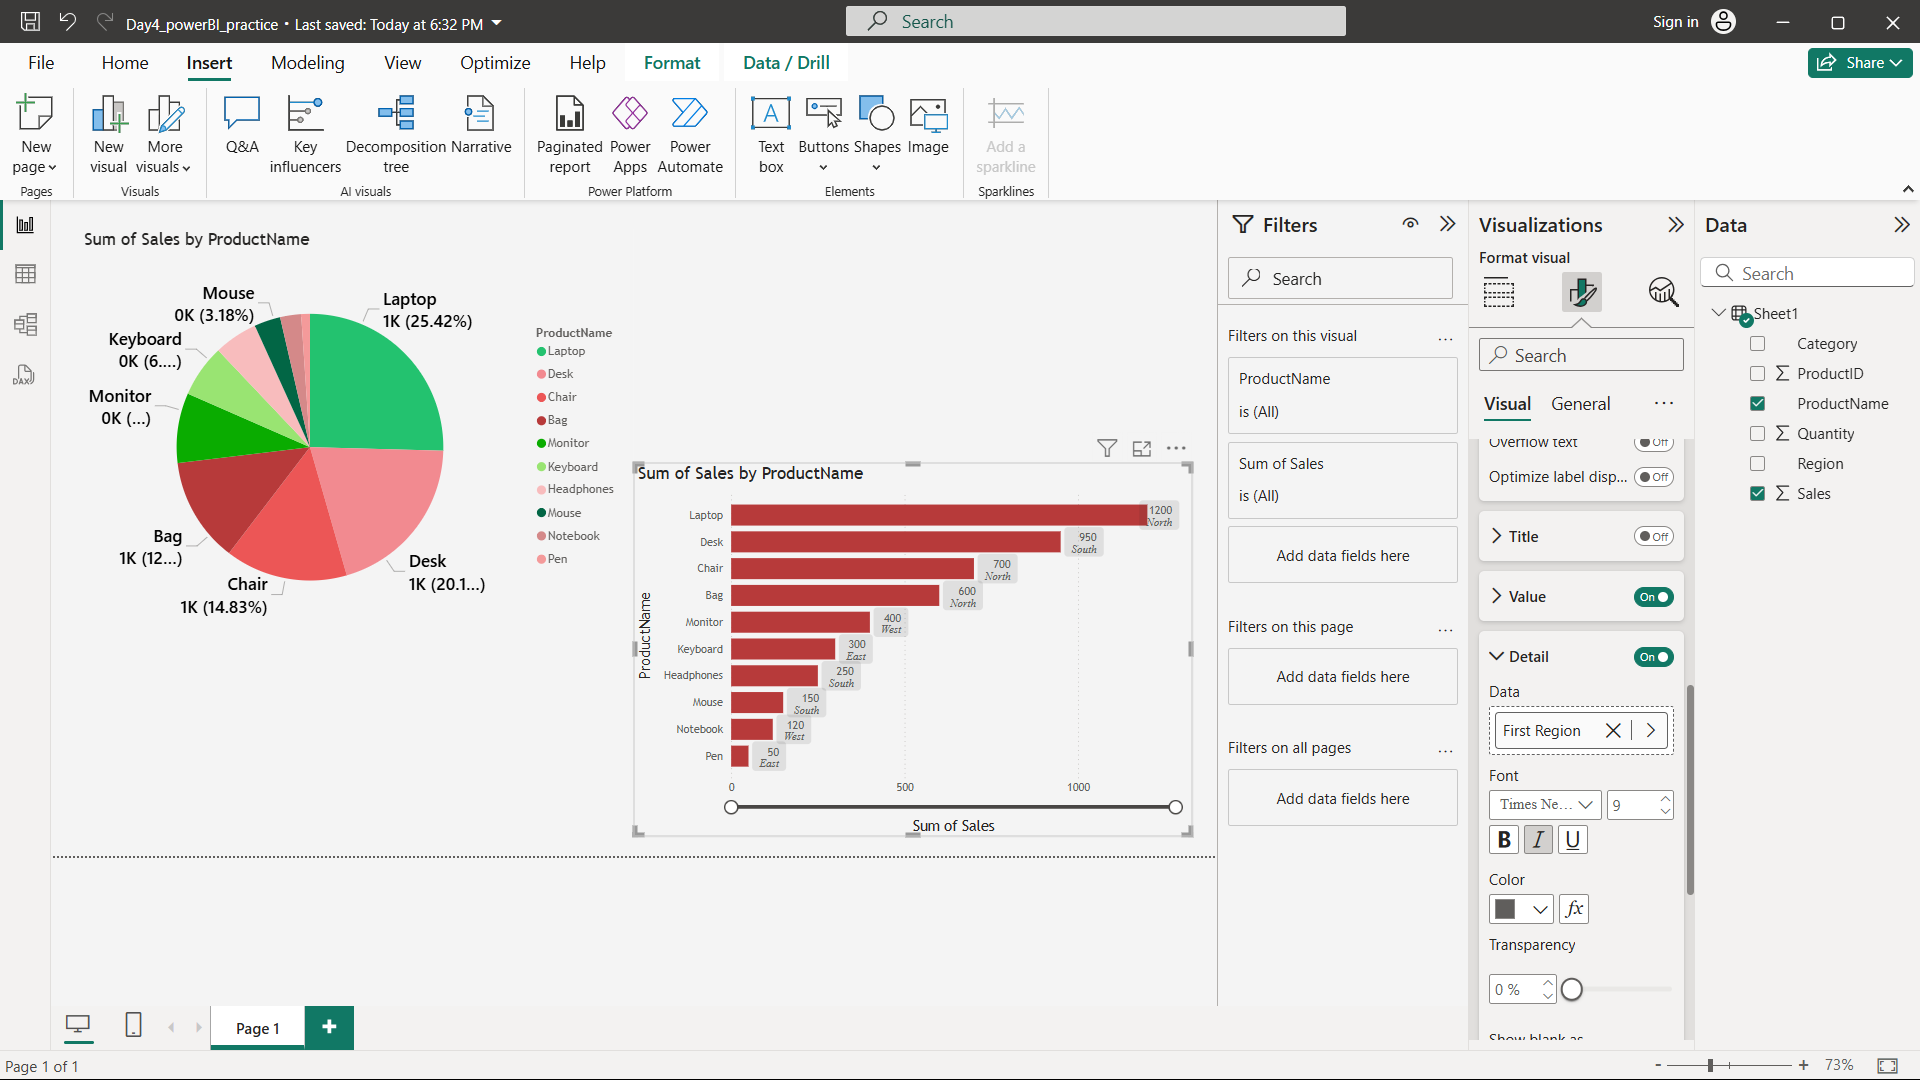

The dashboard page shown, as its layout file describes it:
{"tool":"powerbi","page":{"name":"Page 1","canvas":[1280,720],"ordinal":0},"visuals":[{"type":"pieChart","fields":{"Category":["Sheet1.ProductName"],"Y":["Sum(Sheet1.Sales)"]},"box":[31.6,31.6,607.9,458.3],"z":1},{"type":"clusteredBarChart","fields":{"Category":["Sheet1.ProductName"],"Y":["Sum(Sheet1.Sales)"]},"box":[639.5,288.2,613.4,410.3],"z":2}]}

Visuals, with their boxes on the page's 1280x720 design canvas (x1, y1, x2, y2). These are canvas units, not pixel positions in the 1920x1080 screenshot, which may show the page scaled, cropped or inside an application window:
pieChart - Sheet1.ProductName x Sum(Sheet1.Sales): [left=32, top=32, right=640, bottom=490]
clusteredBarChart - Sheet1.ProductName x Sum(Sheet1.Sales): [left=640, top=288, right=1253, bottom=698]
